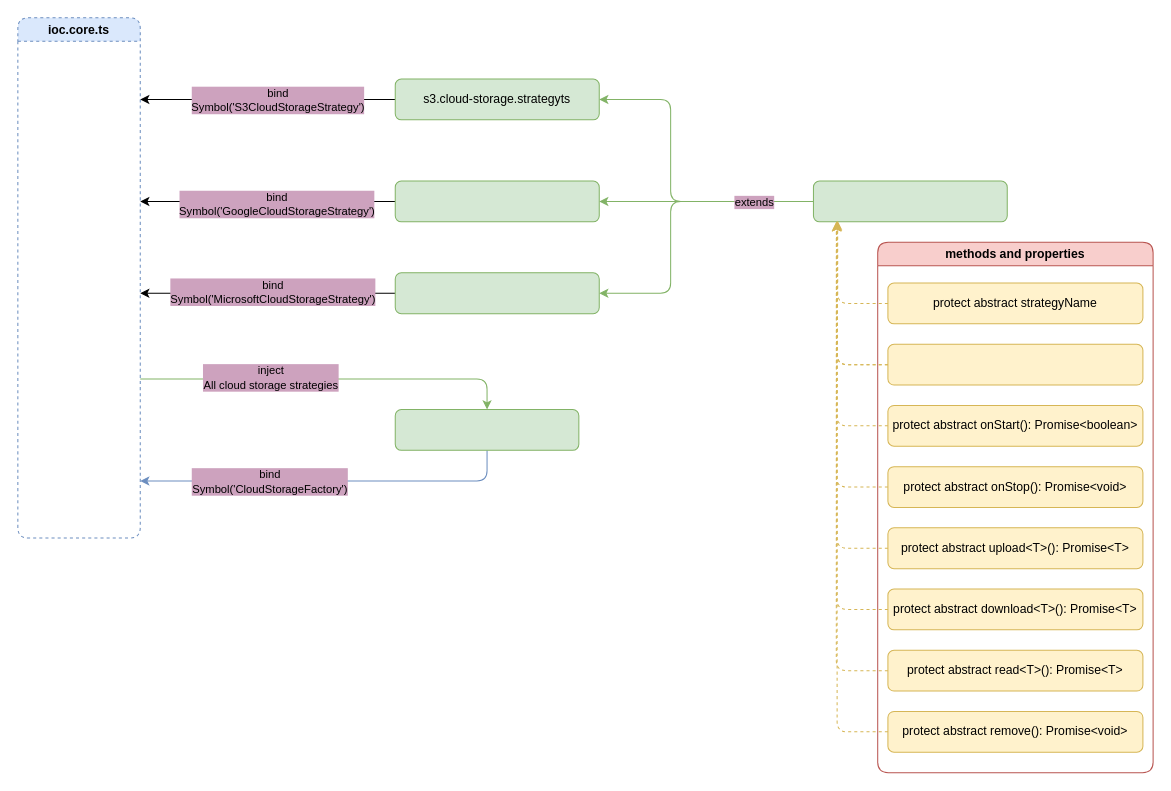
This 1171x791 diagram has some shape labels left out. The box of each missing label's shape, as (x1, y1, x2, y2) in pixels:
abstract.cloud-storage.strategyts: (812, 180, 1007, 222)
cloud-storage.factory.ts: (394, 409, 579, 450)
google.cloud-storage.strategy.ts: (394, 180, 599, 222)
microsoft.cloud-storage.strategy.ts: (394, 272, 599, 314)
protect abstract init(): Promise<boolean>: (887, 343, 1143, 385)
